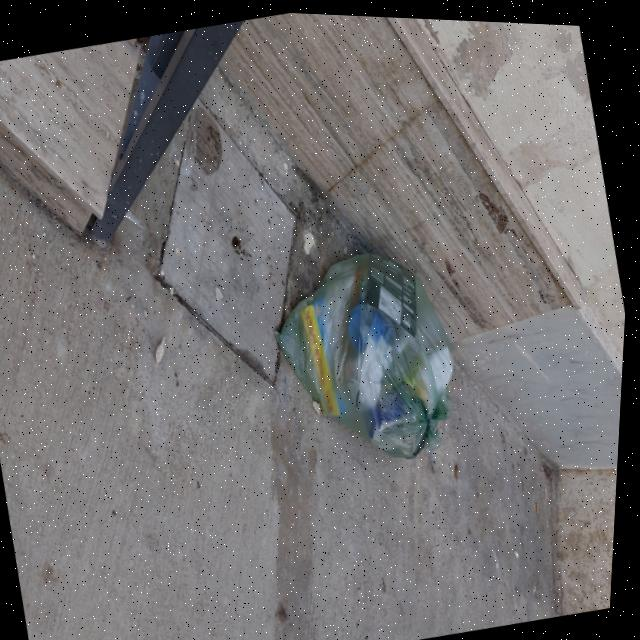Recycled Waste -Grey or Green Bag-: (260, 217, 493, 498)
